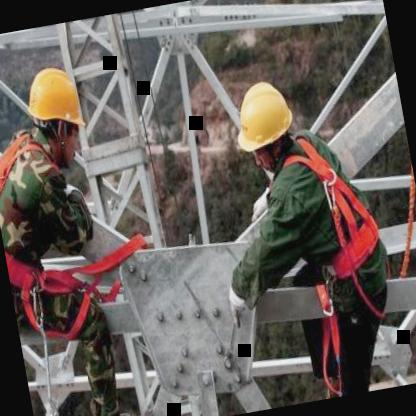helmet: (227, 69, 309, 182), (20, 55, 96, 171)
